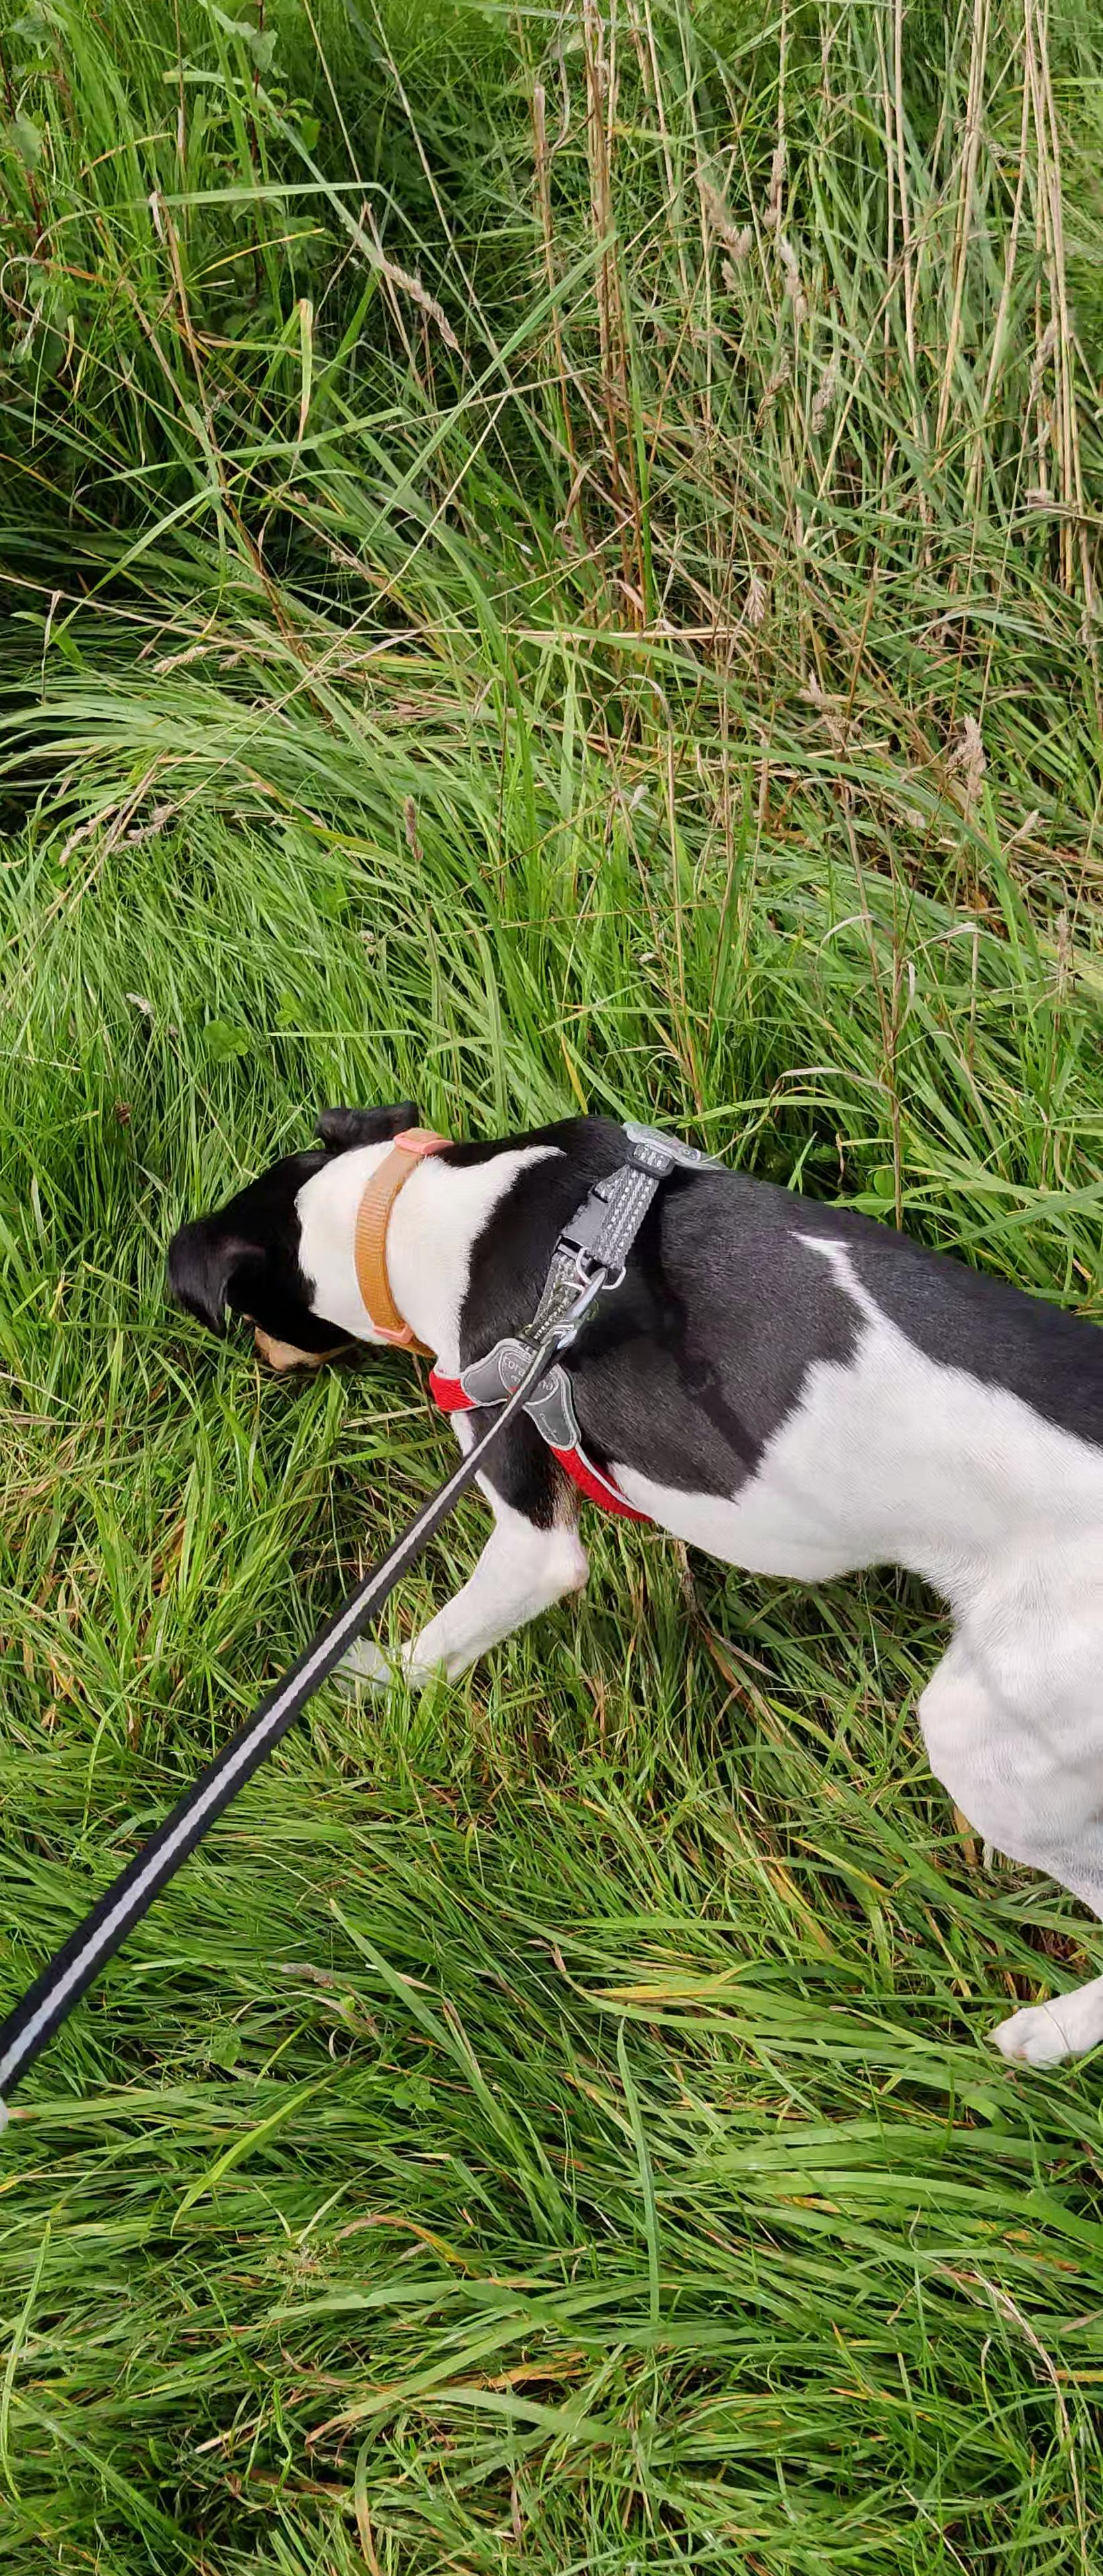Dog: (140, 1071, 1103, 2086)
